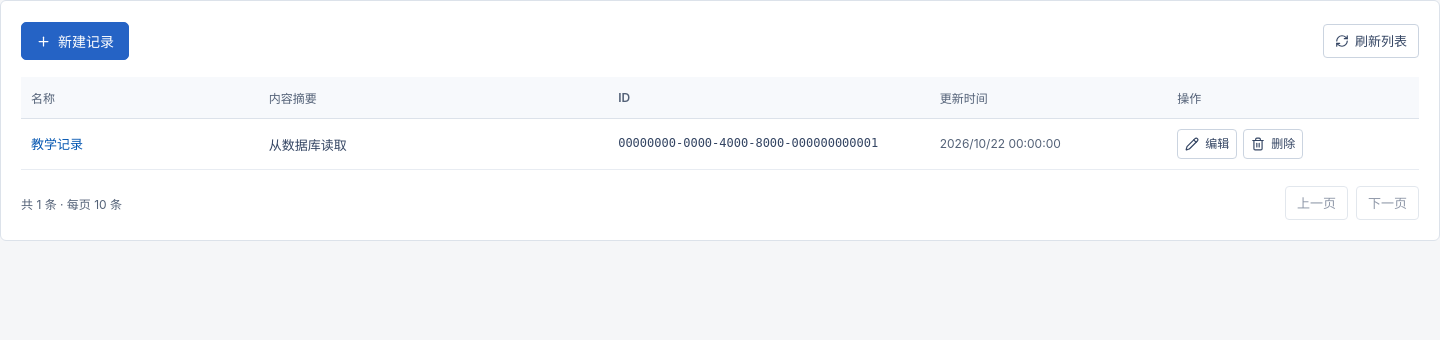
Scenario: persisted records and documents › clears stale selection on a real not-found response
The image size is (1440, 340).
Click the button with aria-label "编辑 教学记录" at (1207, 144), box [1177,129,1237,159]
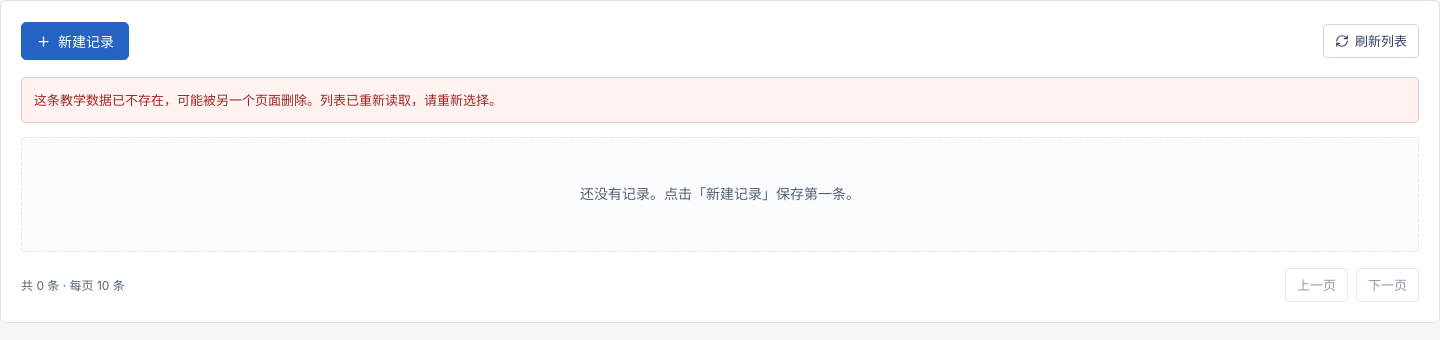
Check: the text "这条教学数据已不存在，可能被另一个页面删除。列表已重新读取，请重新选择。" is shown, box [21,77,1419,123]
